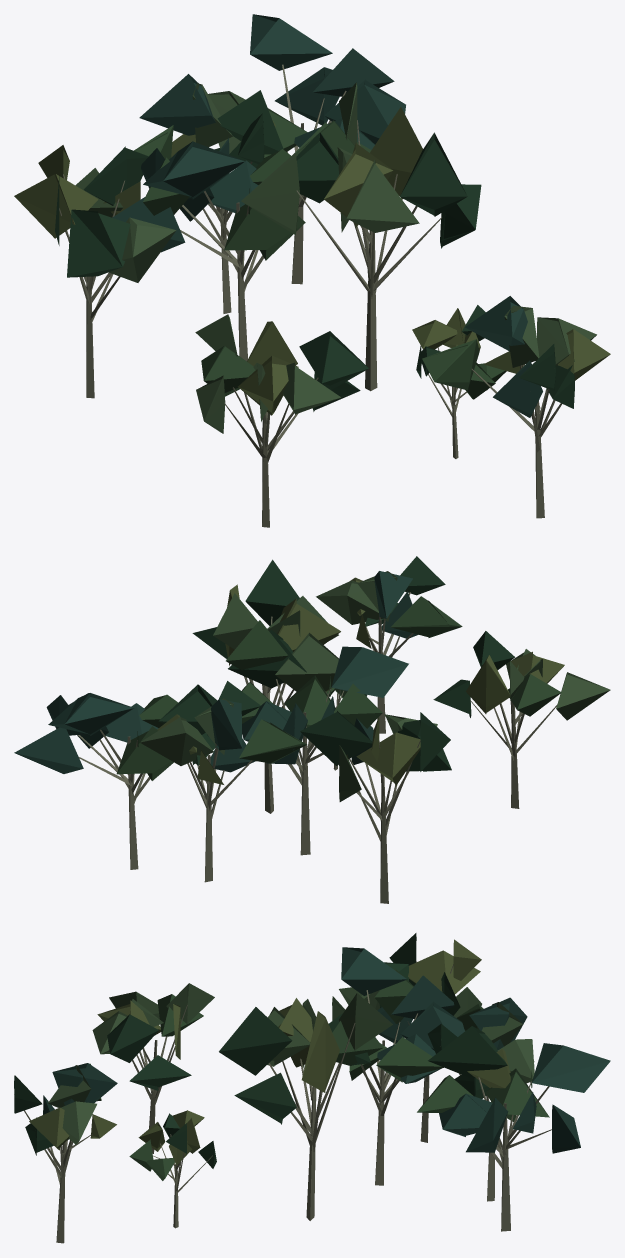
File: forest_16_19.dae
3 renders of one model, top to bottom at view 1: azimuth 30°, elevation 25°; view 2: azimuth 150°, elevation 25°; view 3: azimuth 270°, elevation 25°, orthographic. The views are drawn at different scales.
Parts seen in each view (by area): view 1: Node; view 2: Node; view 3: Node.
Boxes of the visible parts, left/top/right/bottom form: Node: left=14, top=14, right=610, bottom=527; Node: left=14, top=556, right=610, bottom=903; Node: left=14, top=933, right=610, bottom=1243.
Size of the model in its own units: 5.56 by 8.03 by 3.68.
